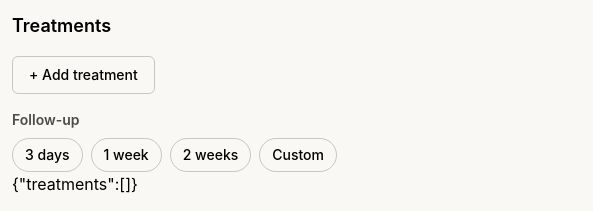
TreatmentsStep › clears the follow-up when Clear is tapped
This screenshot has width=593, height=211.
What coordinates should you click on to do the following:
click the button "3 days"
I would click on:
 (47, 155)
Its box is [12,138,82,172].
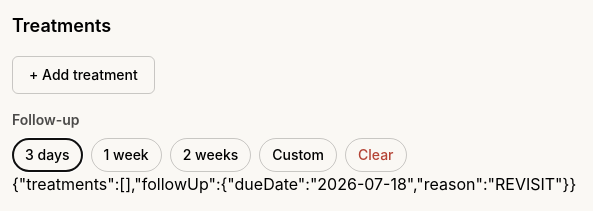
Result: the button "Clear" is shown
What coordinates should you click on to do the following:
click the button "Clear"
I would click on:
 (376, 155)
Its box is [345,138,406,172].
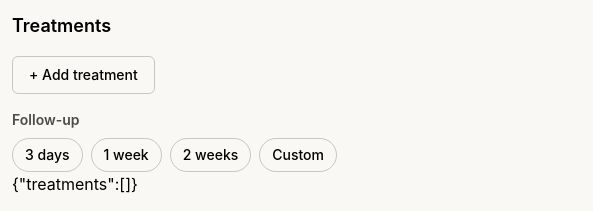
Result: the button "Clear" is gone
